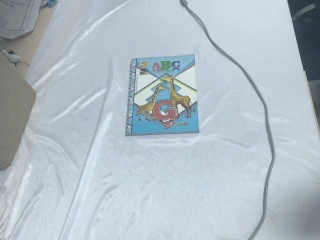book: (120, 53, 202, 137)
box: (1, 40, 36, 173)
